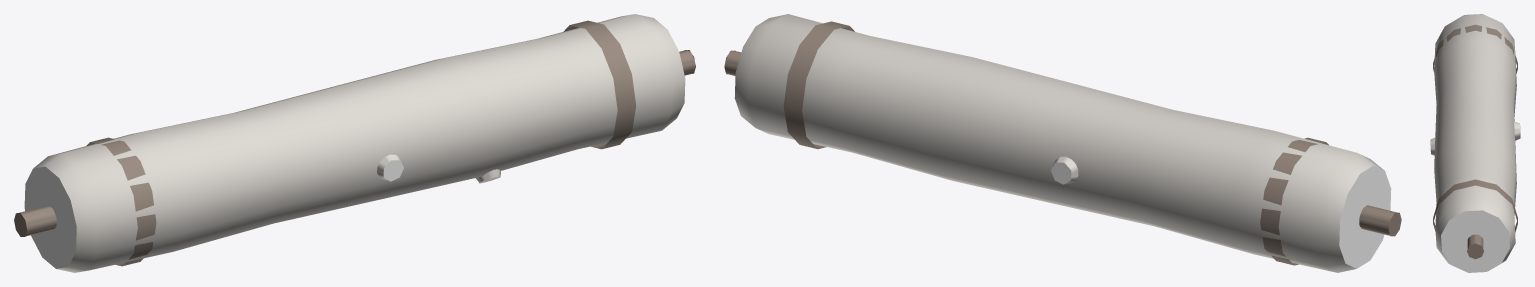
Rendered from mover_log.glb.
3 renders of one model, left to right at view 1: azimuth 30°, elevation 25°; view 2: azimuth 150°, elevation 25°; view 3: azimuth 270°, elevation 25°, orthographic. The views are drawn at different scales.
Visible parts, largest first — view 1: mover_log; view 2: mover_log; view 3: mover_log.
Boxes of the visible parts, x1,y1,x2,y2 form: mover_log: (14,14,695,272); mover_log: (724,14,1401,272); mover_log: (1430,14,1520,272).
Bounding box in the file's own units: 9.34 × 1.55 × 1.65.
